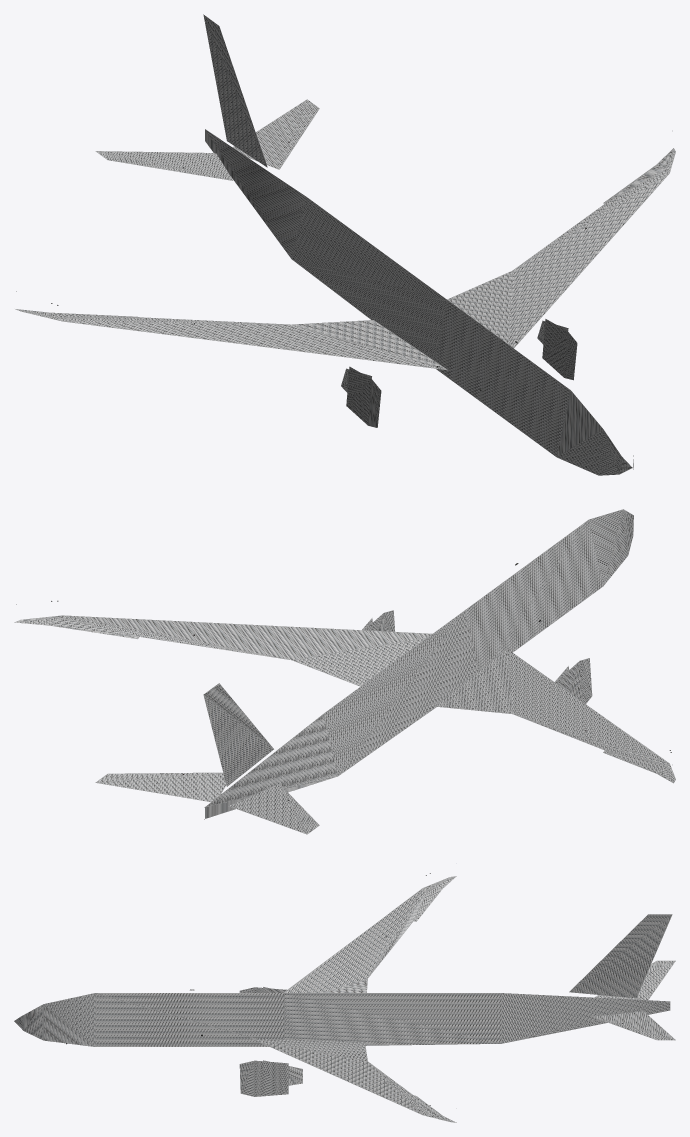
Rendered from TFS_B773ER_LOD1.gltf.
3 renders of one model, top to bottom at view 1: azimuth 30°, elevation 25°; view 2: azimuth 150°, elevation 25°; view 3: azimuth 270°, elevation 25°, orthographic. The views are drawn at different scales.
Visible parts, largest first — view 1: low_poly_model; view 2: low_poly_model; view 3: low_poly_model.
Boxes of the visible parts, box(x1,y1,x2,y2) form: low_poly_model: box(15, 14, 675, 475); low_poly_model: box(14, 509, 675, 834); low_poly_model: box(14, 876, 675, 1122).
Size of the model in its own units: 65.39 by 17.6 by 74.09.
